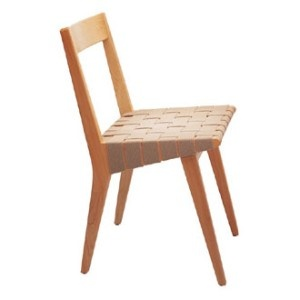obstacle: (60, 13, 237, 284)
